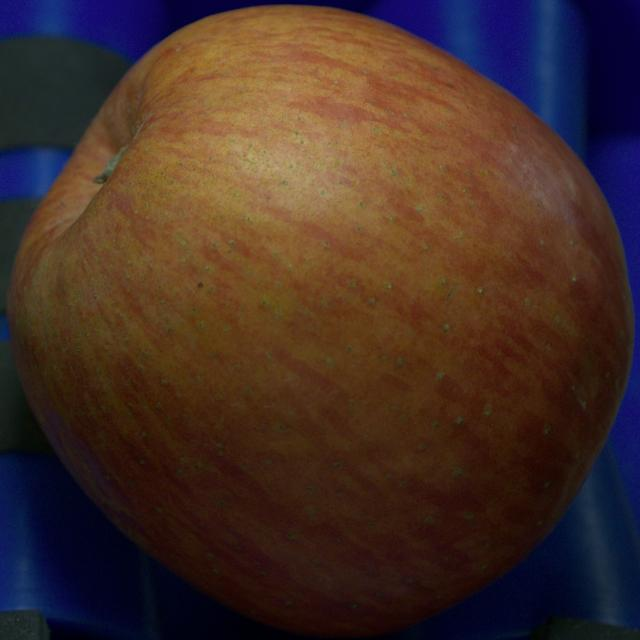apple: (5, 6, 633, 636)
